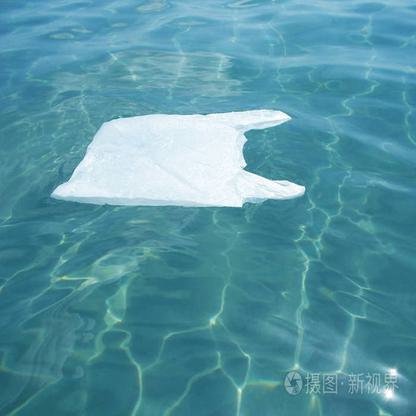plastic bag: (51, 108, 307, 206)
